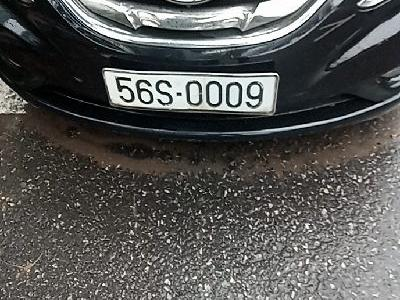lisence: (99, 67, 280, 117)
